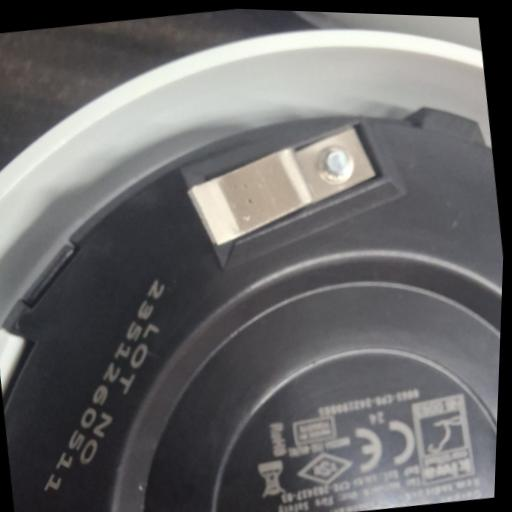yaysiz: (175, 114, 391, 263)
